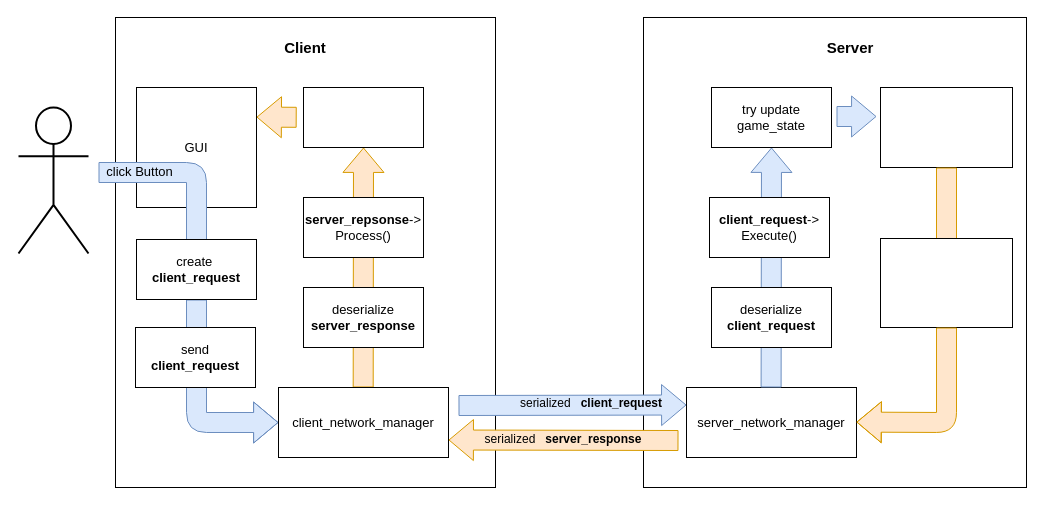
The diagram is 1044 pixels wide and 505 high, and some of its shapes have lost their labels. Each missing label, with the centre of its shape:
create server_response with new game_state (or update error): the point at 946,127
Player: the point at 53,180
send server_response (to all players if game_state has changed): the point at 946,283
update GUI according to new game_state: the point at 363,117
